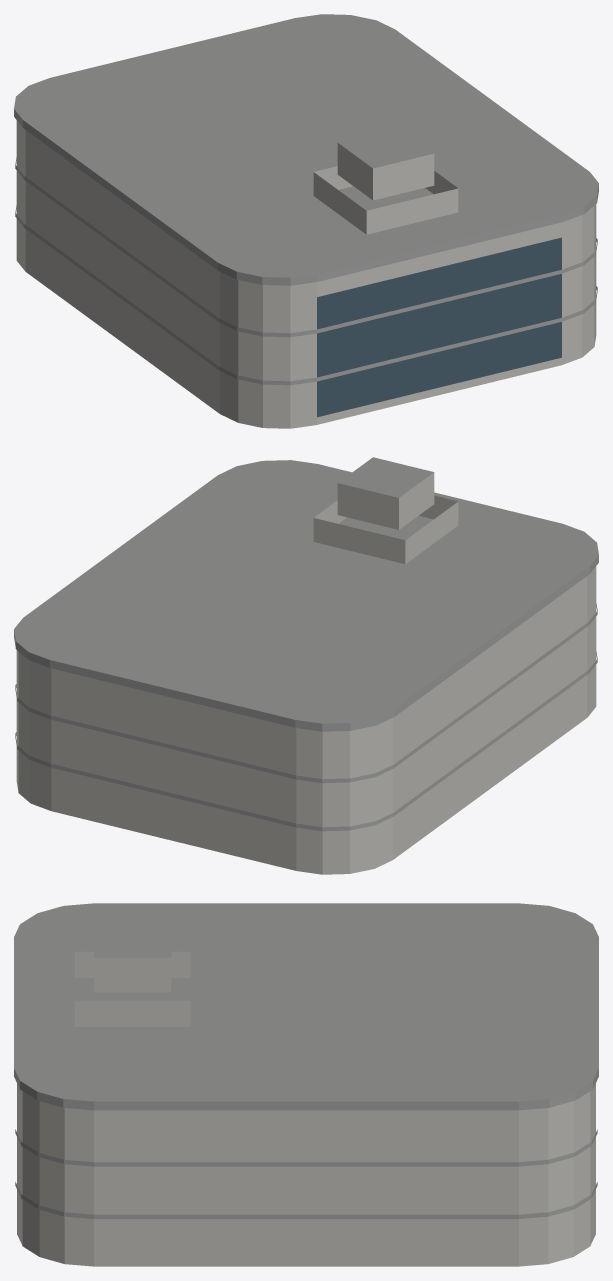
Rendered from mohai.glb.
3 views of the same model, one above another, from view 1: azimuth 30°, elevation 25°; view 2: azimuth 150°, elevation 25°; view 3: azimuth 270°, elevation 25° (orthographic). The views are drawn at different scales.
Visible parts, largest first — view 1: mohai; view 2: mohai; view 3: mohai.
Boxes of the visible parts, box(x1,y1,x2,y2) form: mohai: box(14, 14, 598, 428); mohai: box(14, 457, 598, 874); mohai: box(14, 903, 598, 1266).
Bounding box in the file's own units: 48.6 × 26 × 60.6.
Materials: 1 (1 with a texture image).
